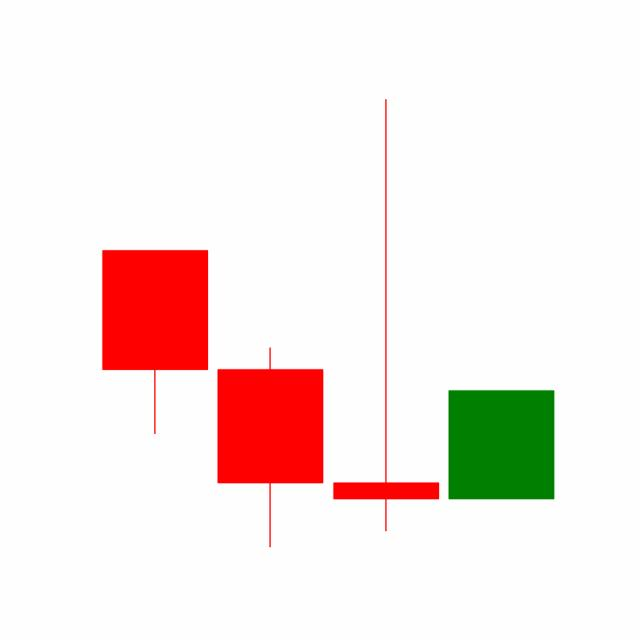Marubozu: (443, 389, 559, 501)
